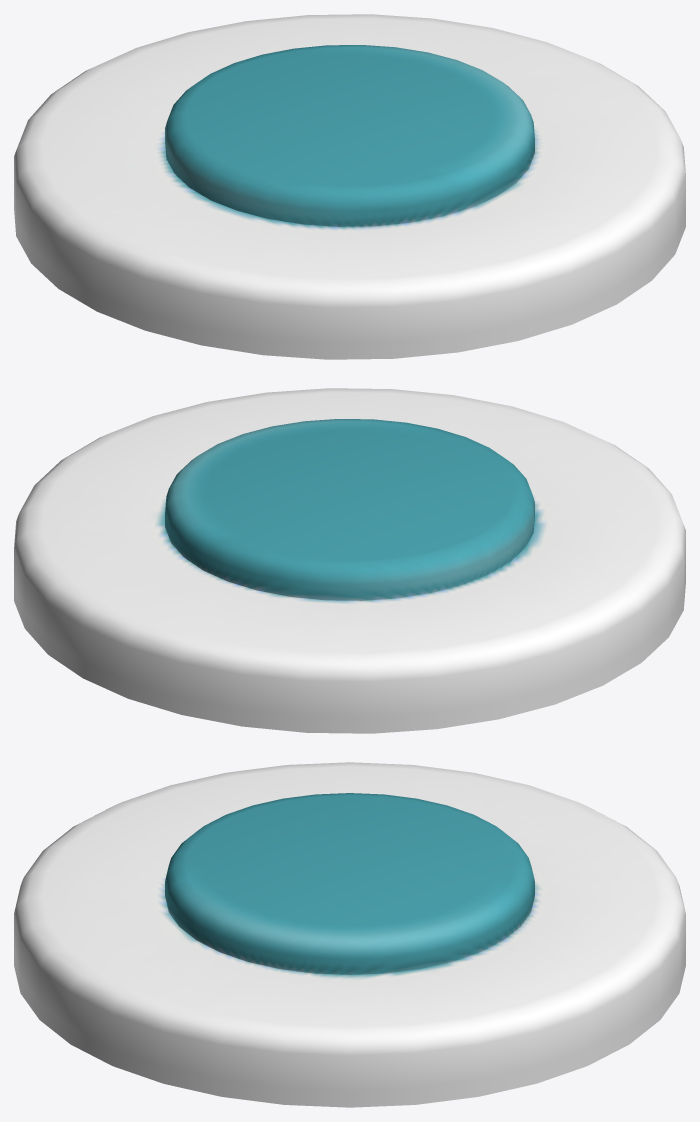
Rendered from day_FOOT_GPS_MODEL.glb.
3 renders of one model, top to bottom at view 1: azimuth 30°, elevation 25°; view 2: azimuth 150°, elevation 25°; view 3: azimuth 270°, elevation 25°, orthographic.
Visible parts, largest first — view 1: button_location_thin; view 2: button_location_thin; view 3: button_location_thin.
Part boxes in pixels (x1,y1,x2,y2): button_location_thin: [14, 14, 685, 359]; button_location_thin: [14, 388, 685, 733]; button_location_thin: [14, 762, 685, 1107].
Bounding box in the file's own units: 12.89 × 2.91 × 12.89.
Materials: 1 (1 with a texture image).
